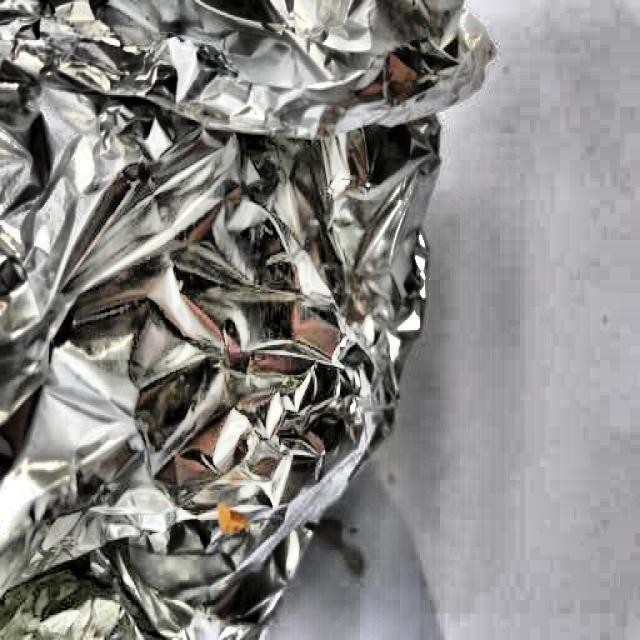metal: (0, 0, 495, 635)
